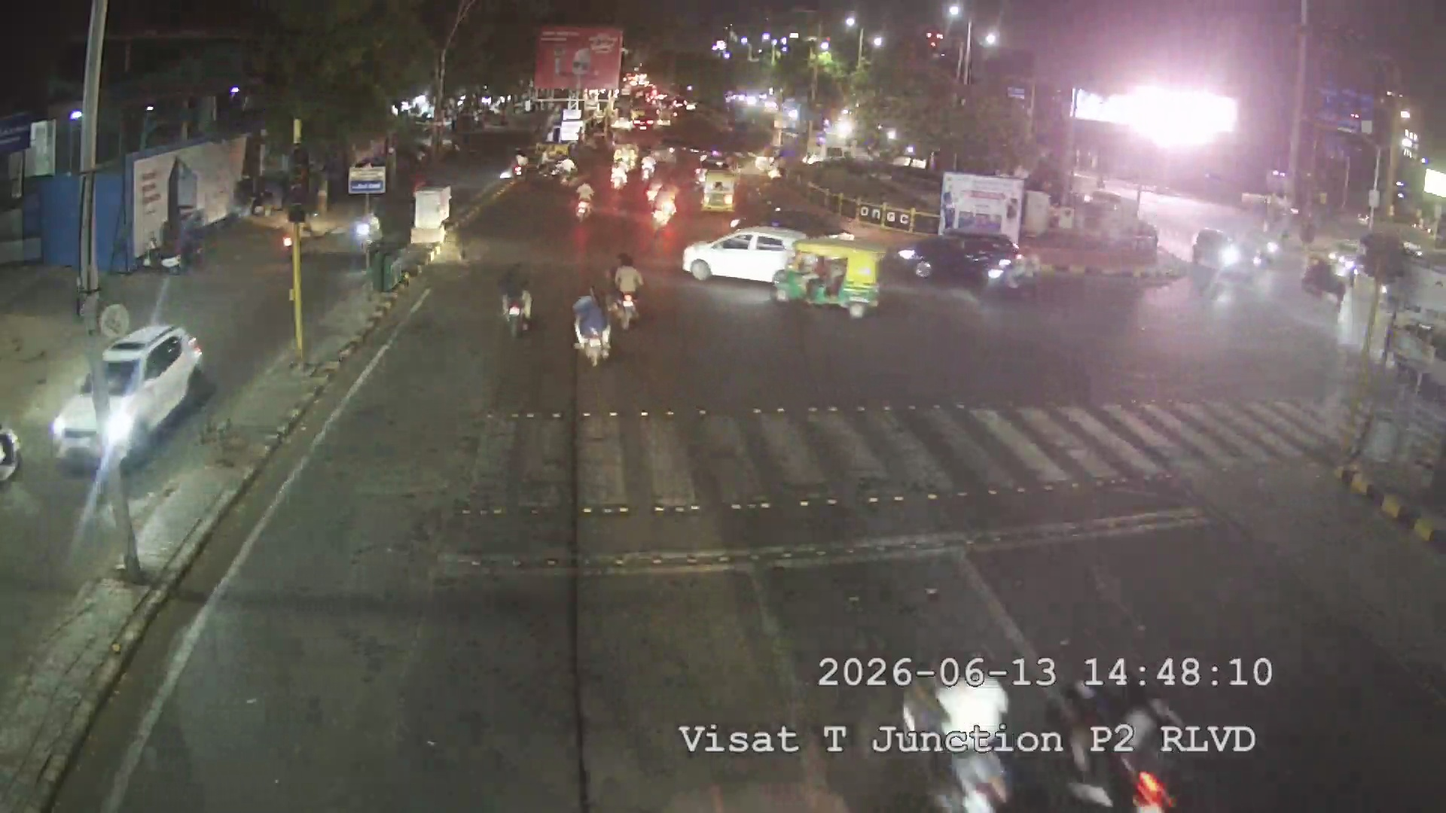auto_rickshaw: (781, 235, 886, 313), (698, 164, 739, 213)
car: (74, 319, 212, 457), (681, 221, 800, 289), (1187, 221, 1256, 285)
two_wheeler: (567, 280, 613, 368), (494, 262, 539, 342), (606, 250, 648, 331), (0, 389, 25, 495), (648, 179, 681, 230), (570, 175, 598, 224)
